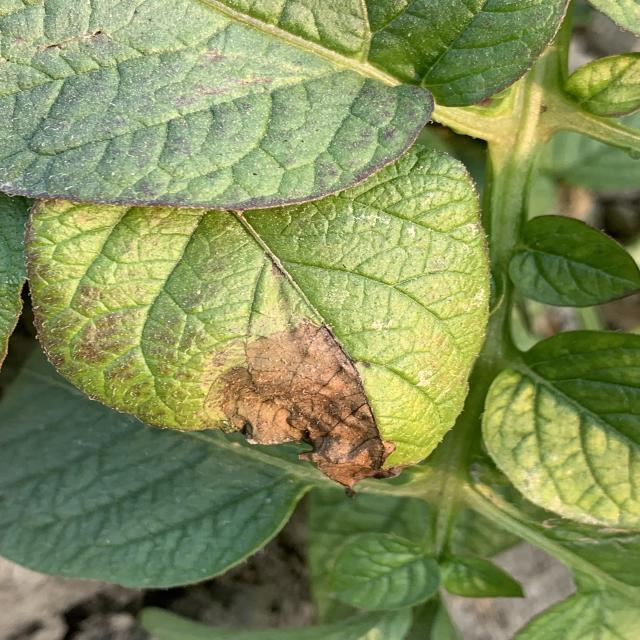lateblight: (207, 320, 402, 490)
